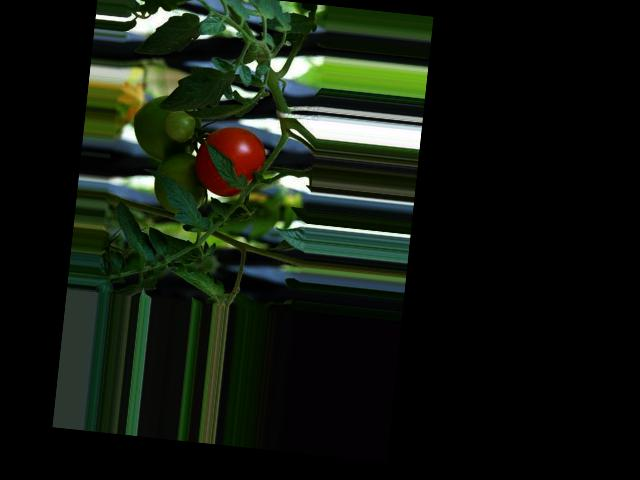tomato: (192, 122, 269, 200)
